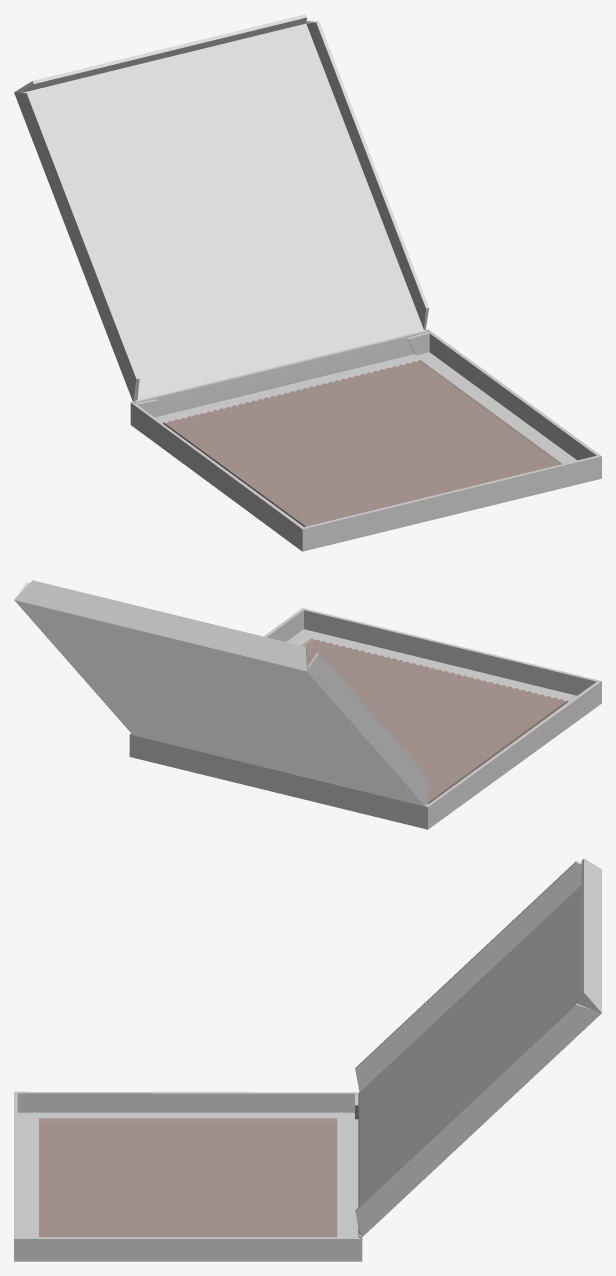
File: PizzaBoxOpen.fbx
The picture shows the model from 3 angles, top to bottom: view 1: azimuth 30°, elevation 25°; view 2: azimuth 150°, elevation 25°; view 3: azimuth 270°, elevation 25°; orthographic projection.
Visible parts, largest first — view 1: PizzaBoxOpen; view 2: PizzaBoxOpen; view 3: PizzaBoxOpen.
Part boxes in pixels (x1,y1,x2,y2): PizzaBoxOpen: [14, 14, 601, 551]; PizzaBoxOpen: [14, 580, 601, 829]; PizzaBoxOpen: [14, 858, 601, 1261].
Size of the model in its own units: 14 by 11.64 by 23.63.
